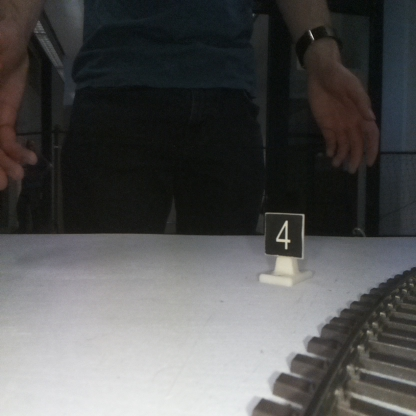white-stop-4: (264, 214, 303, 283)
